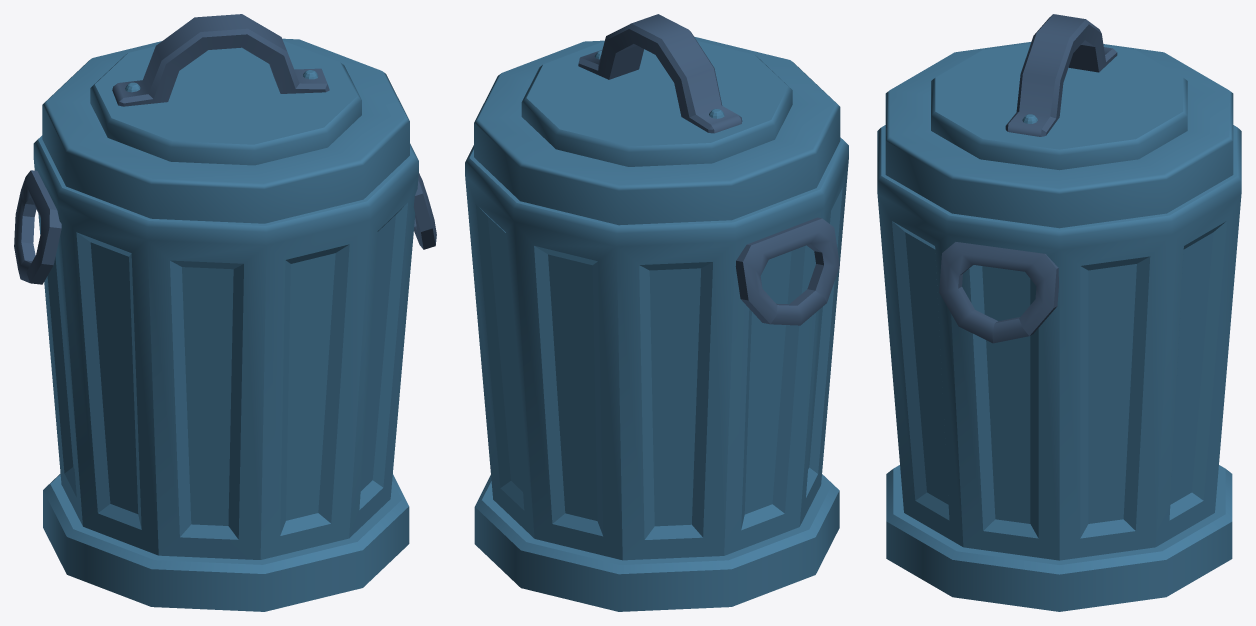
The model's file is SM_Bin.fbx.
The picture shows the model from 3 angles, left to right: view 1: azimuth 30°, elevation 25°; view 2: azimuth 150°, elevation 25°; view 3: azimuth 270°, elevation 25°; orthographic projection.
Parts seen in each view (by area): view 1: SM_Bin; view 2: SM_Bin; view 3: SM_Bin.
Part boxes in pixels (x1,y1,x2,y2): SM_Bin: (14,14,436,611); SM_Bin: (465,14,848,611); SM_Bin: (877,14,1241,611).
Size of the model in its own units: 77.56 by 104 by 67.95.
